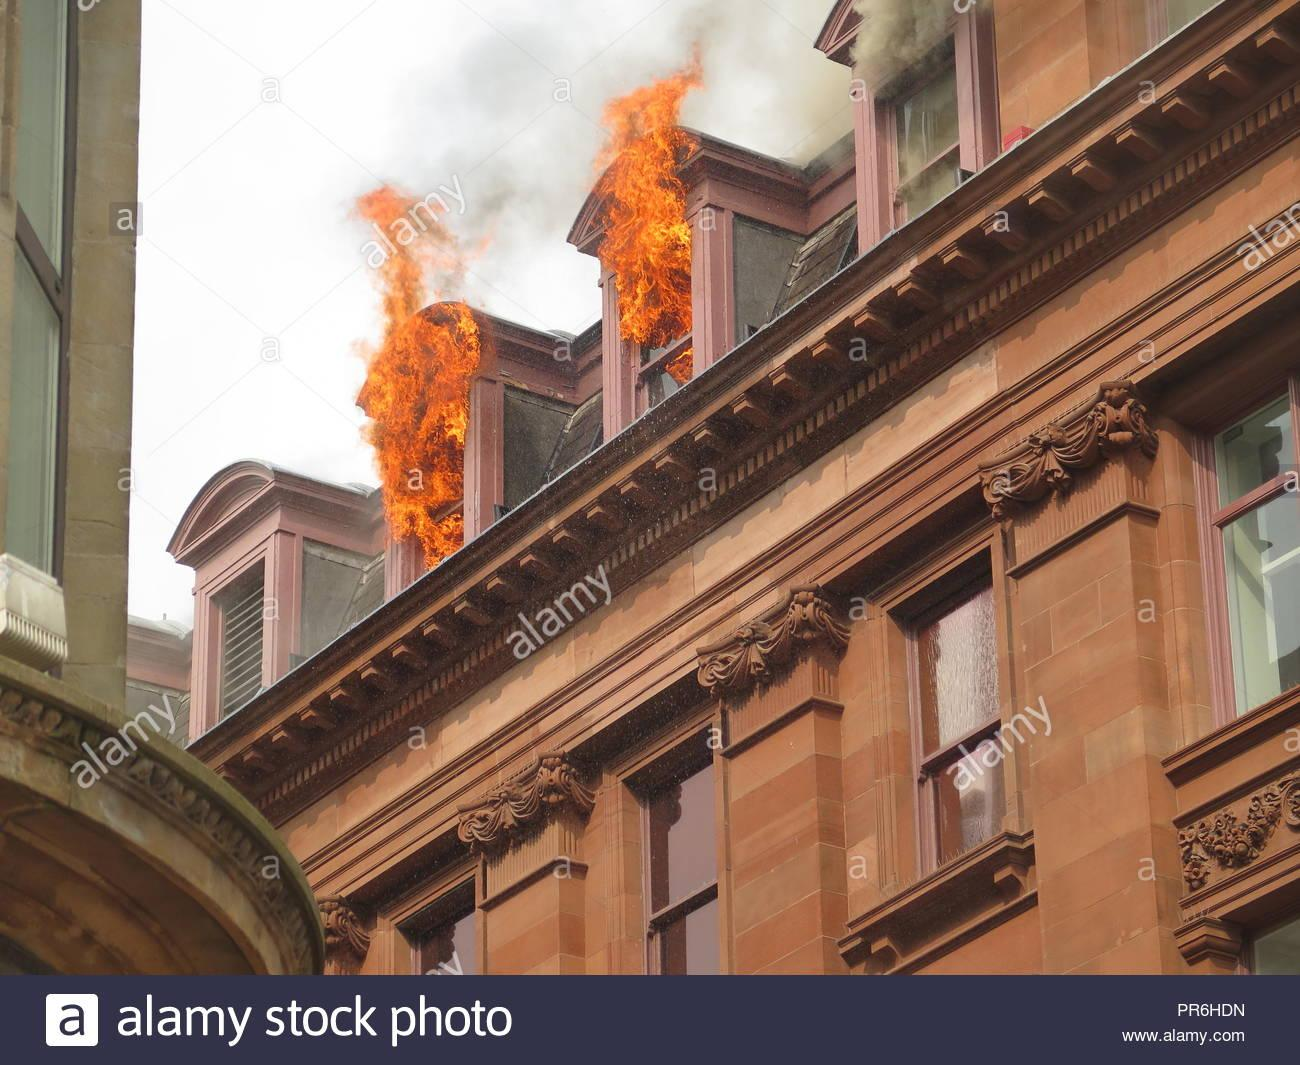Fire: (316, 132, 516, 579), (568, 87, 735, 372)
